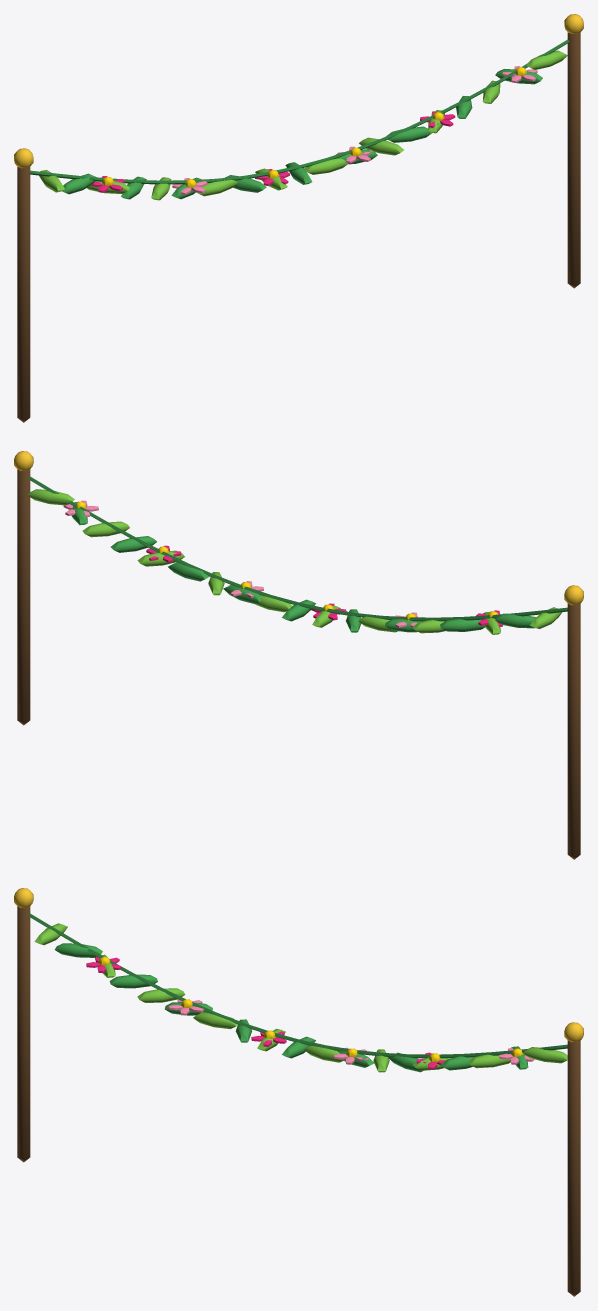
The model's file is W6_Garland_C.fbx.
The picture shows the model from 3 angles, top to bottom: view 1: azimuth 30°, elevation 25°; view 2: azimuth 150°, elevation 25°; view 3: azimuth 330°, elevation 25°; orthographic projection.
Visible parts, largest first — view 1: W6_Garland_C; view 2: W6_Garland_C; view 3: W6_Garland_C.
Boxes of the visible parts, <box> form: W6_Garland_C: <box>14,14,583,422</box>; W6_Garland_C: <box>14,451,583,859</box>; W6_Garland_C: <box>14,888,583,1296</box>.
Size of the model in its own units: 9.49 by 4.37 by 0.7013.
